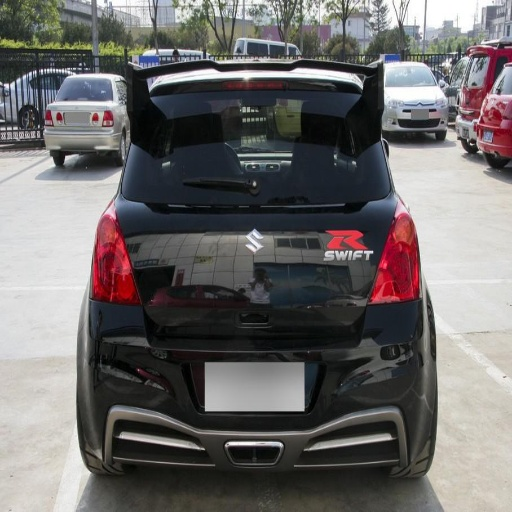back_bumper: (79, 301, 436, 468)
